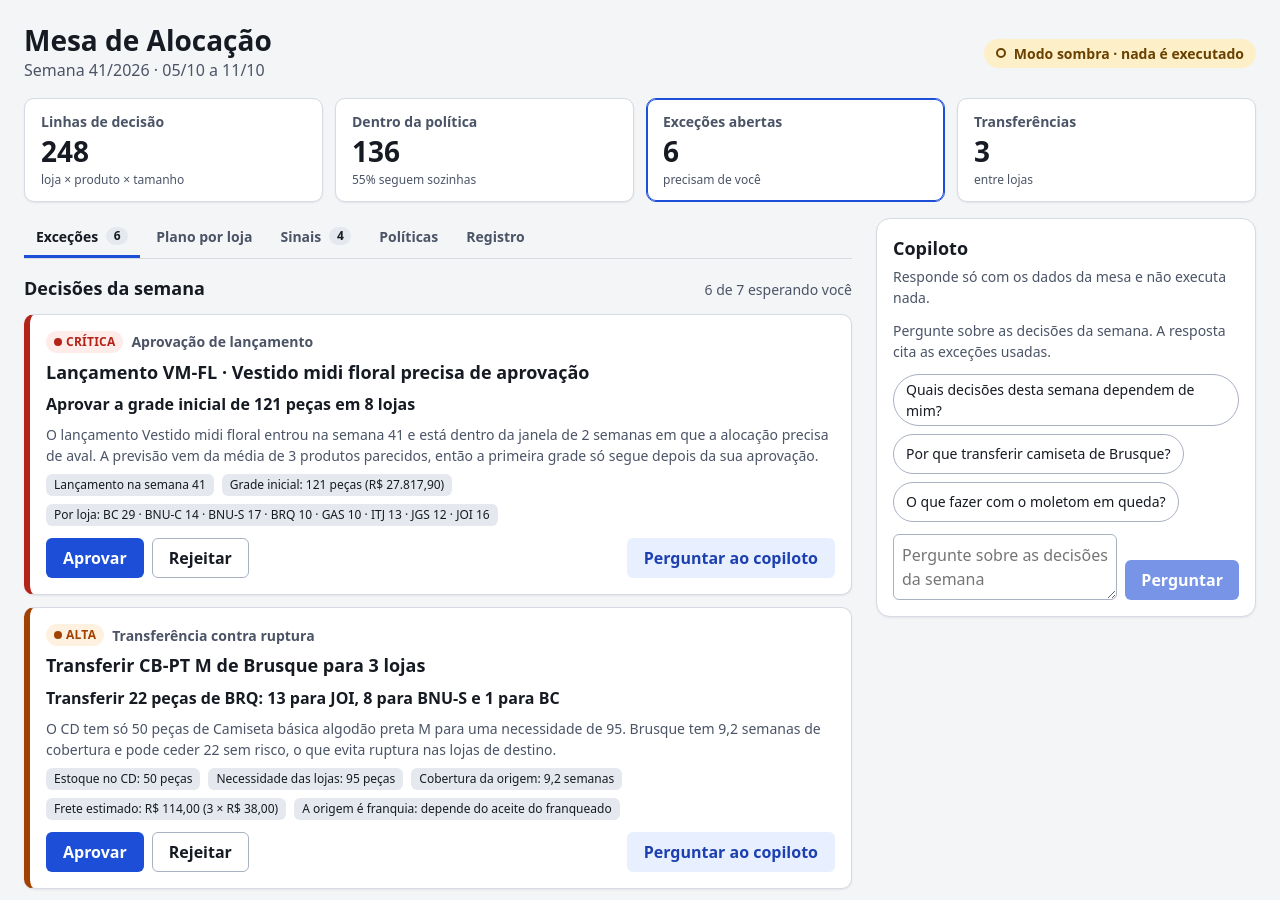
Test case: AllocationDesk › lista sinais e interpreta uma mensagem nova quando uso a aba Sinais
The width and height of the screenshot is (1280, 900).
Click the tab "Sinais 4".
click(316, 238)  # box [268,218,363,258]
(page scrolled)
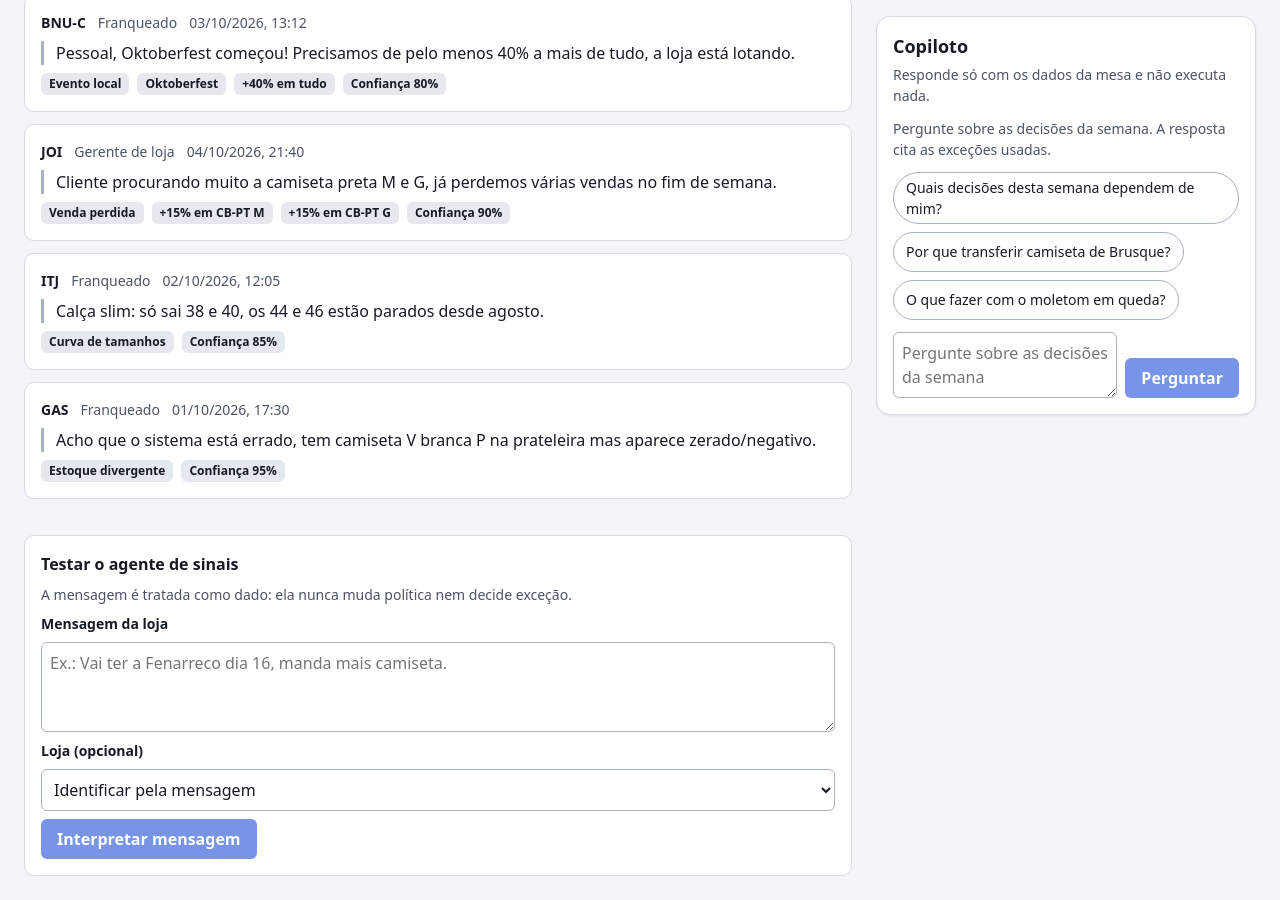
Type "Vai ter Fenarreco, manda mais camiseta" into the text box with test id "signal-input".
click(438, 687); type("Vai ter Fenarreco, manda mais camiseta")  # box [41,642,835,732]
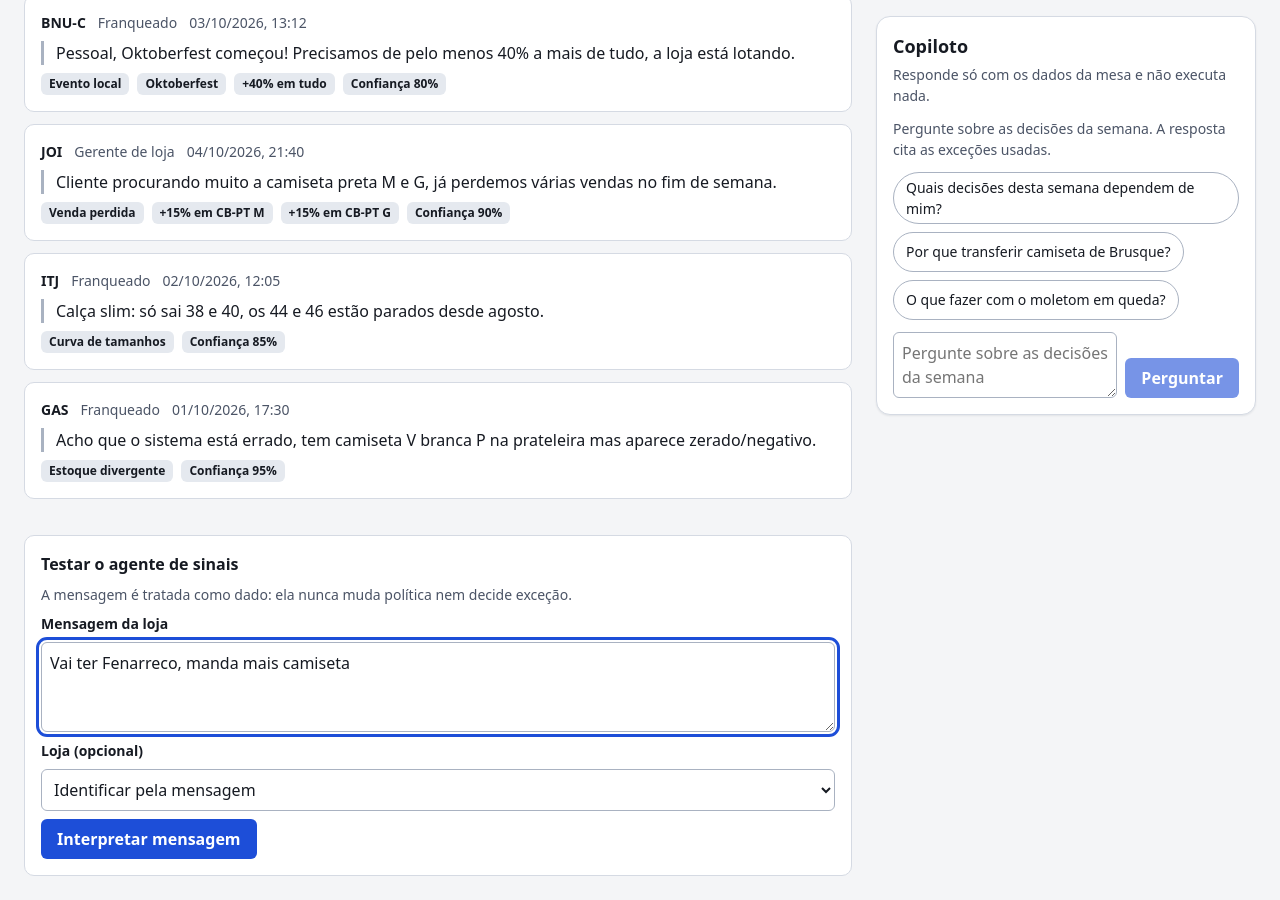
Click the button with test id "btn-interpret".
click(149, 839)  # box [41,819,257,859]
(page scrolled)
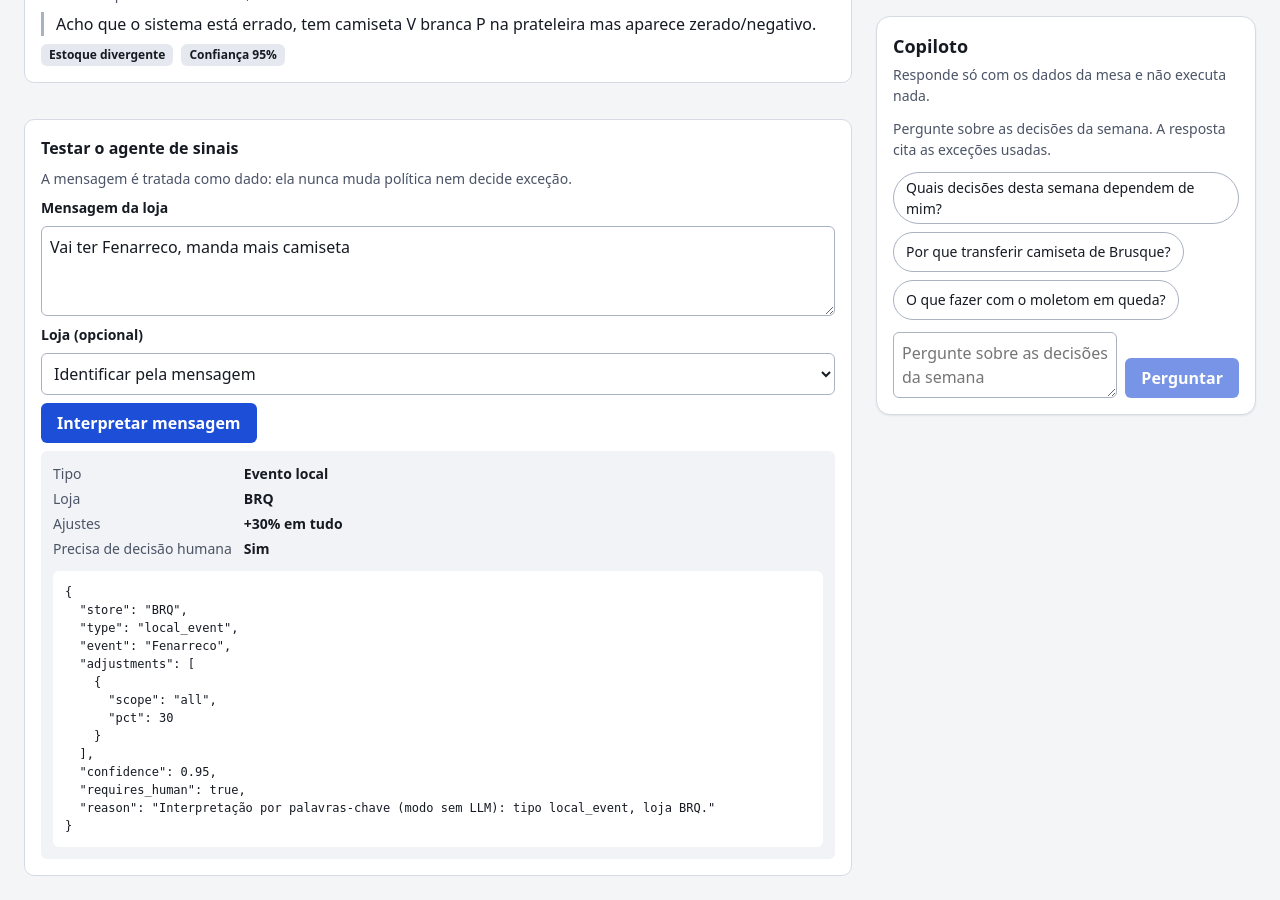
Now the message with test id "signal-result" shows "\"type\"", box [65,585,715,833]
